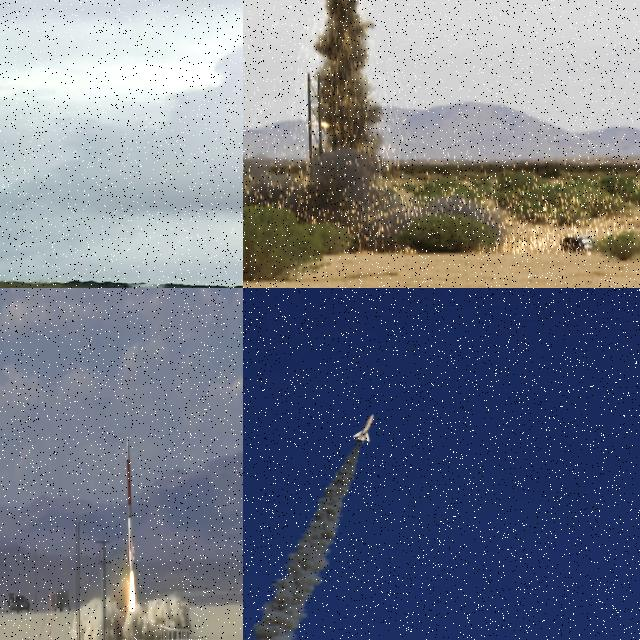Rocket: (125, 439, 135, 579), (352, 414, 374, 444)
